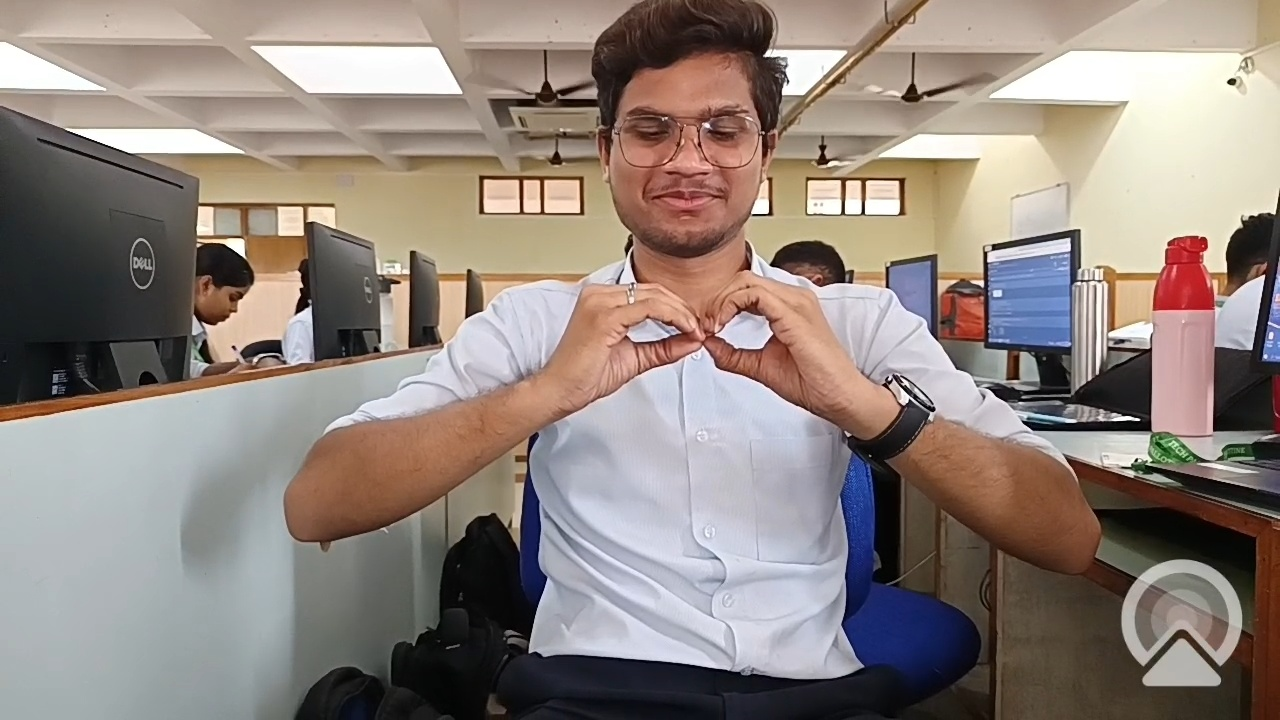B: (513, 235, 885, 487)
